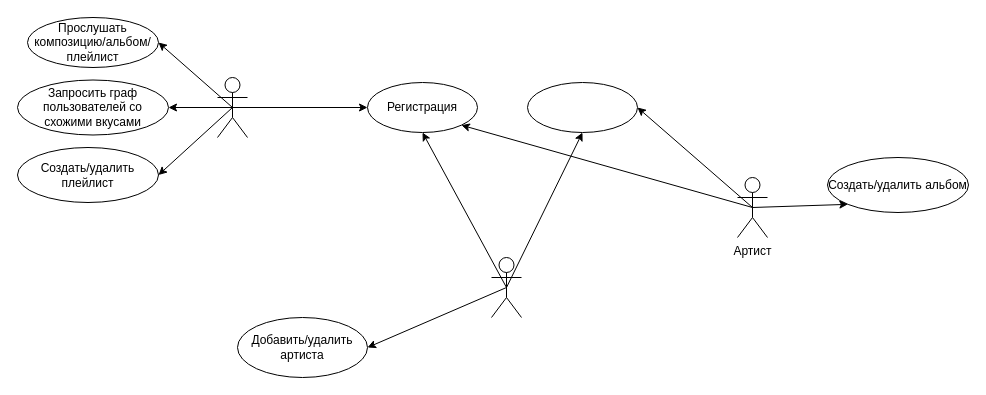
The diagram is 986 pixels wide and 395 high, and some of its shapes have lost their labels. The centre of each missing label's shape, as x and y in pixels:
"Администратор" belongs at (x=506, y=287).
"Вход" belongs at (x=582, y=107).
"Пользователь" belongs at (x=232, y=107).
